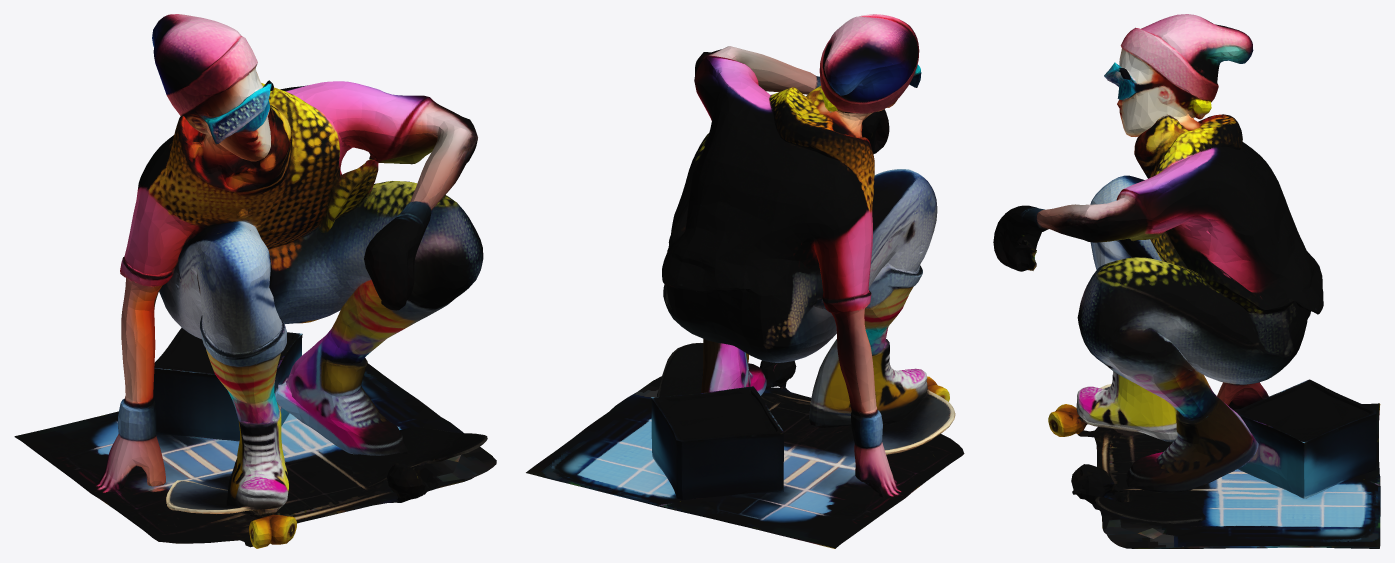
Rendered from generated-1747272107444-771895_1747272129950_f17bedaa.glb.
3 views of the same model, side by side, from view 1: azimuth 30°, elevation 25°; view 2: azimuth 150°, elevation 25°; view 3: azimuth 270°, elevation 25° (orthographic). The views are drawn at different scales.
Visible parts, largest first — view 1: world; view 2: world; view 3: world.
Boxes of the visible parts, x1,y1,x2,y2 form: world: [14, 14, 496, 548]; world: [526, 14, 964, 548]; world: [993, 14, 1380, 548].
Bounding box in the file's own units: 0.7457 × 0.9997 × 0.8391.
Materials: 1 (1 with a texture image).
